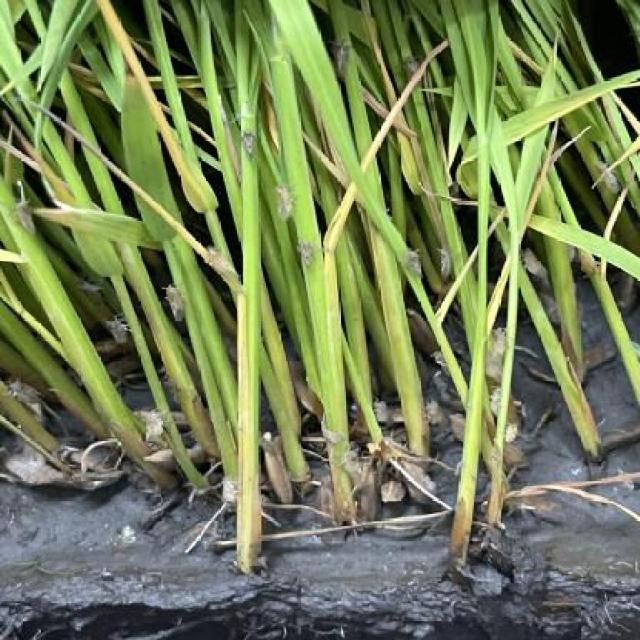rice leaf roller -penggulung daun padi-: (0, 0, 640, 582)
wereng pada daun padi: (156, 264, 199, 340), (515, 237, 559, 293), (99, 296, 140, 352), (267, 178, 307, 234), (398, 240, 434, 284), (326, 28, 350, 87), (242, 118, 264, 169)
